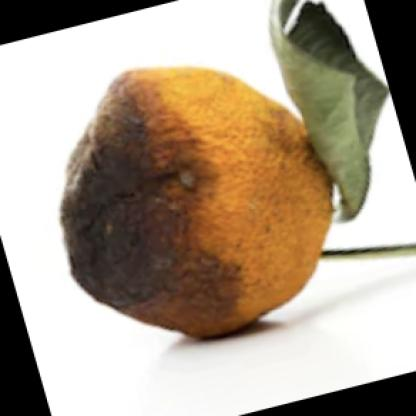rotten: (65, 69, 333, 339)
